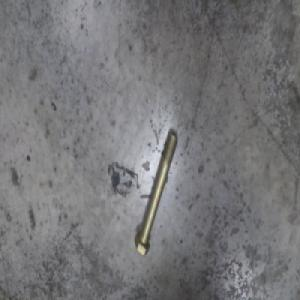Bolt: (136, 120, 178, 256)
